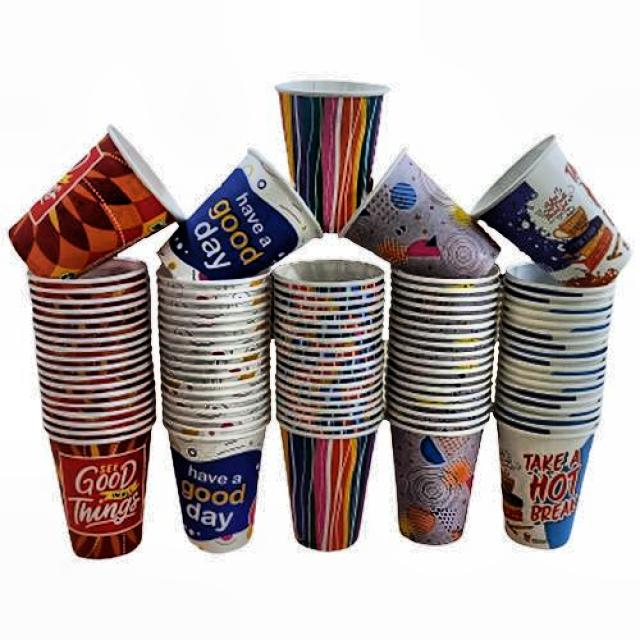Cup: (14, 243, 161, 563), (266, 255, 389, 552), (150, 248, 268, 556), (376, 250, 496, 550), (503, 251, 616, 558), (2, 119, 178, 280), (481, 129, 639, 283), (171, 133, 324, 280), (350, 138, 502, 282), (274, 77, 394, 243)
